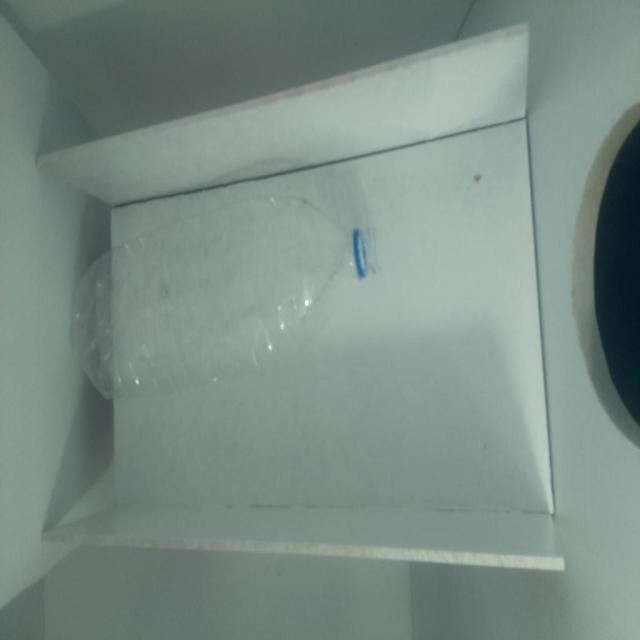Pet_Bottle: (66, 186, 393, 404)
